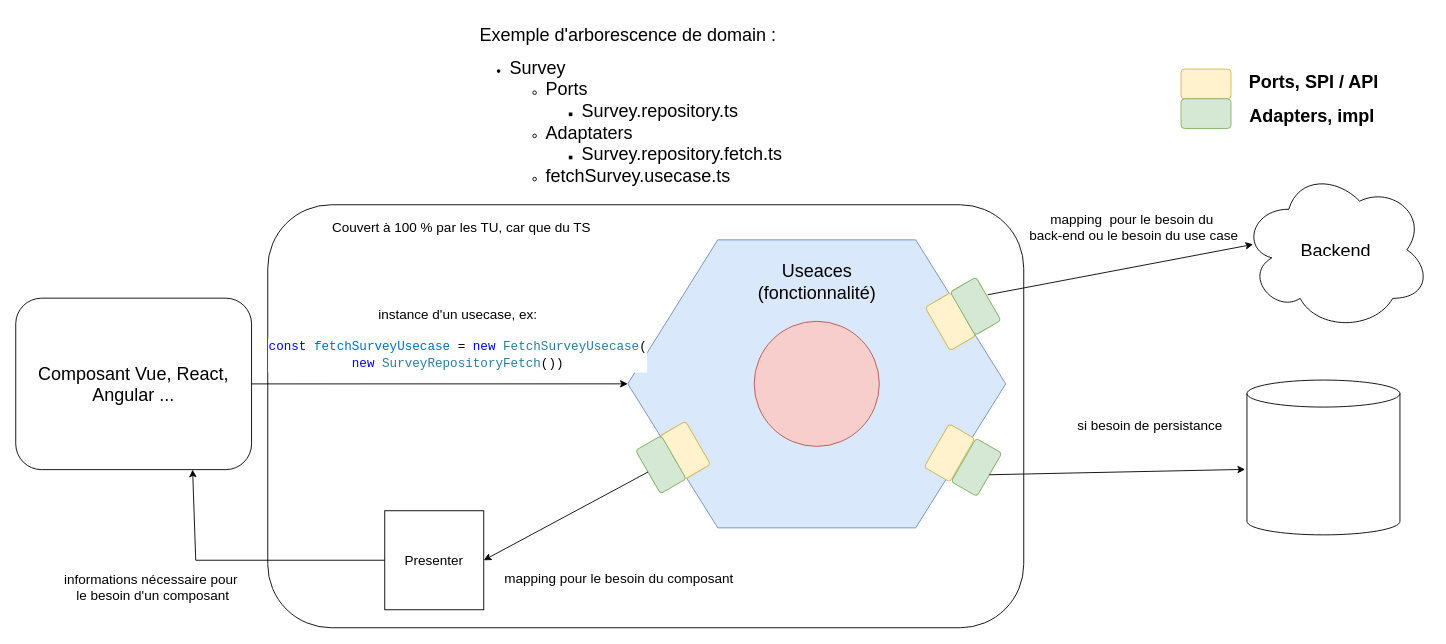
Image size: 1446x644. Some labels were removed from this diagram. Each missing label, with the centre of its shape:
Entities (Business logic): point (816, 383)
persistance: point (1323, 457)
